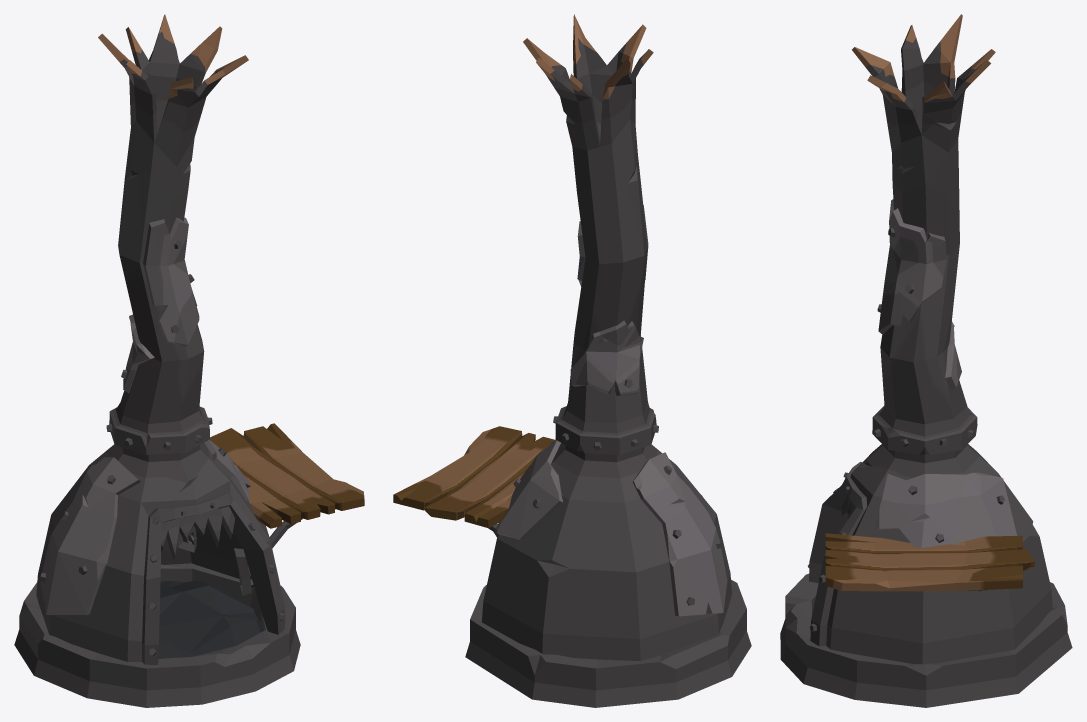
File: bog_forge.gltf
The picture shows the model from 3 angles, left to right: view 1: azimuth 30°, elevation 25°; view 2: azimuth 150°, elevation 25°; view 3: azimuth 270°, elevation 25°; orthographic projection.
Parts seen in each view (by area): view 1: bog_forge; view 2: bog_forge; view 3: bog_forge.
Part boxes in pixels (bbox=[...]): bog_forge: bbox=[14, 14, 364, 707]; bog_forge: bbox=[393, 14, 751, 707]; bog_forge: bbox=[780, 14, 1072, 707].
Bounding box in the file's own units: 1.8 × 3.62 × 1.56.
Materials: 1 (1 with a texture image).
